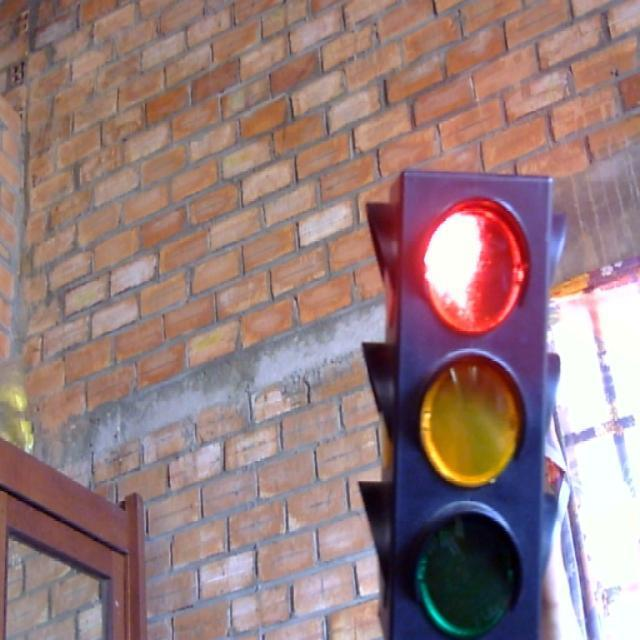red_light: (356, 166, 579, 640)
